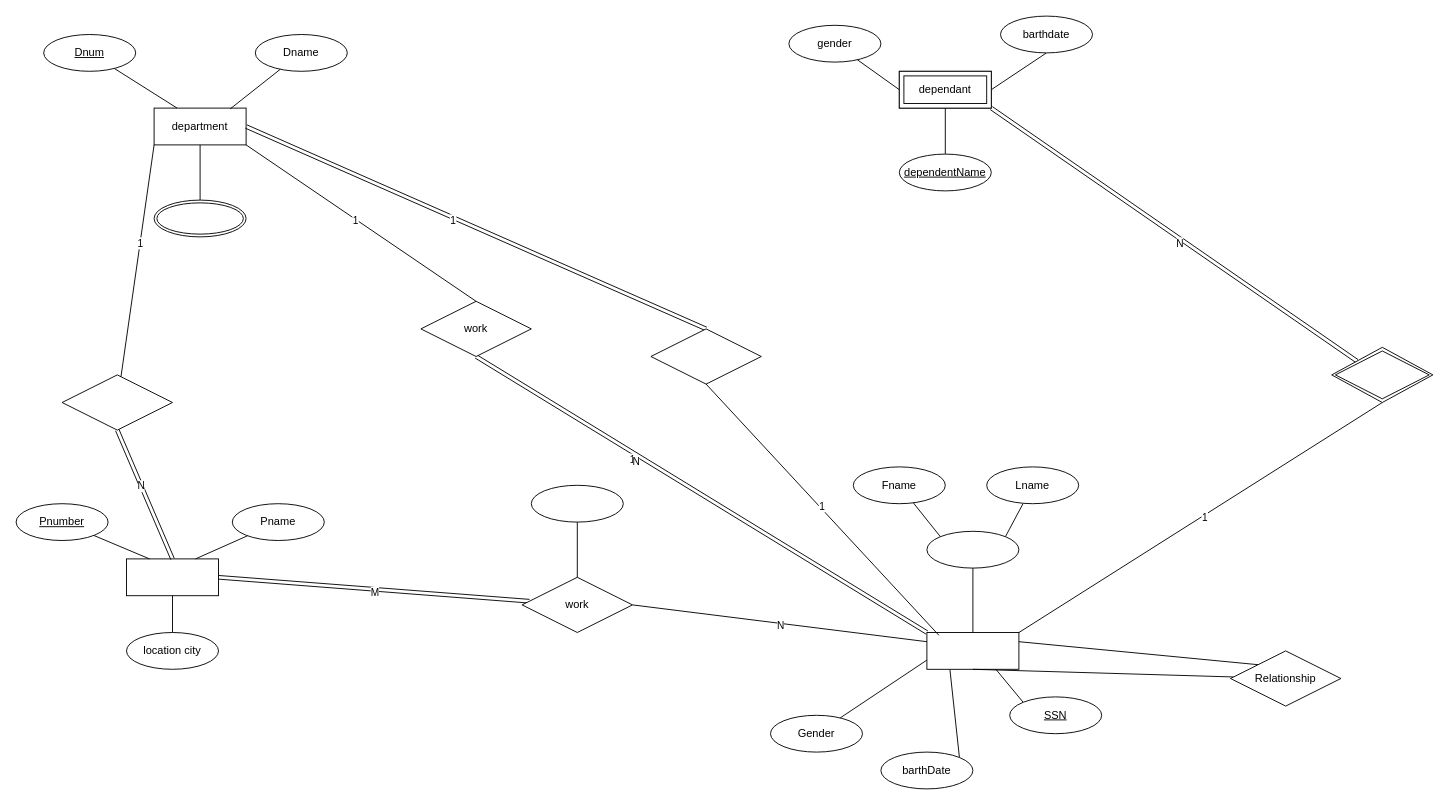
Image size: 1449x805. Some labels were removed from this diagram. Each missing label, with the box of its shape:
assign: (61, 374, 172, 430)
employee: (926, 632, 1019, 669)
Have: (1331, 346, 1433, 402)
location: (153, 199, 246, 237)
manage: (650, 328, 761, 384)
name: (926, 530, 1019, 568)
project: (126, 558, 218, 596)
workHours: (530, 484, 623, 522)
